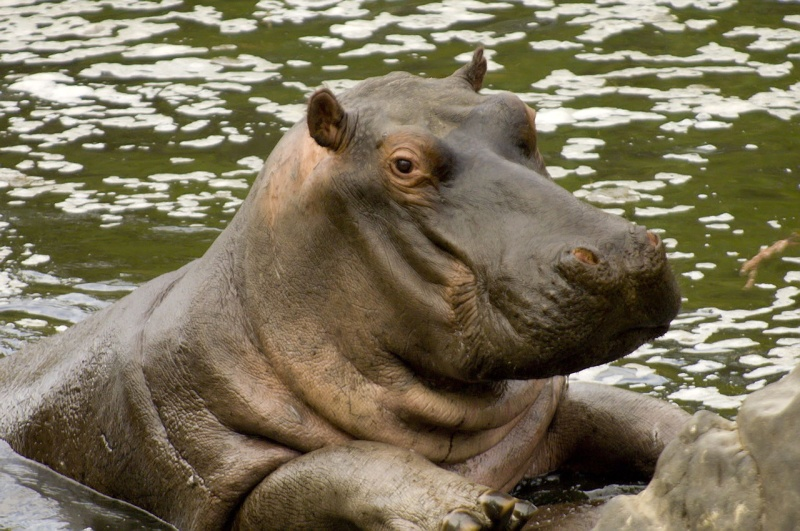hipopotamo: (0, 50, 690, 531)
